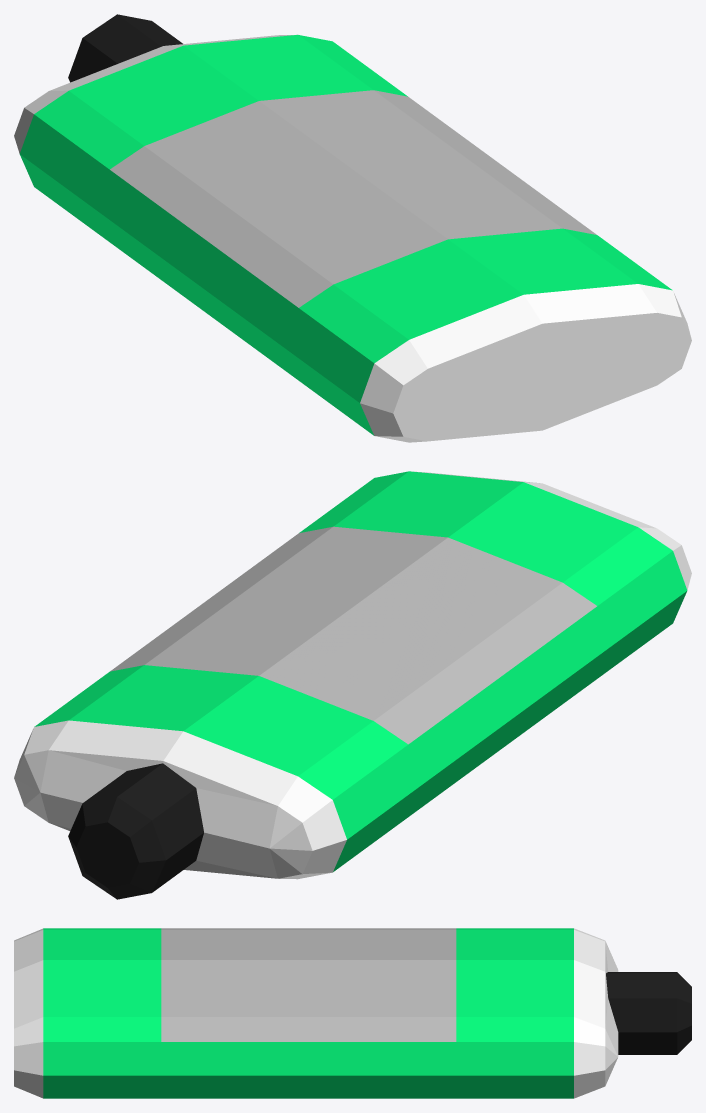
File: ShampooBottle.fbx
3 views of the same model, one above another, from view 1: azimuth 30°, elevation 25°; view 2: azimuth 150°, elevation 25°; view 3: azimuth 270°, elevation 25° (orthographic). The views are drawn at different scales.
Visible parts, largest first — view 1: Circle.009; view 2: Circle.009; view 3: Circle.009.
Part boxes in pixels (x1,y1,x2,y2): Circle.009: (14,14,691,442); Circle.009: (14,471,691,899); Circle.009: (14,928,691,1098).
Size of the model in its own units: 10 by 4 by 23.
